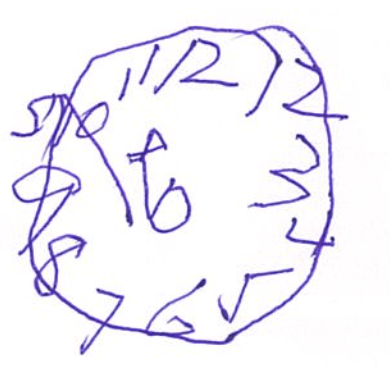10: (52, 101, 110, 146)
11: (117, 40, 161, 109)
12: (153, 38, 240, 96)
3: (249, 131, 321, 212)
5: (215, 266, 296, 325)
6: (138, 278, 208, 339)
7: (77, 287, 124, 355)
8: (32, 231, 86, 298)
9: (10, 161, 83, 255)
contour: (25, 23, 338, 348)
